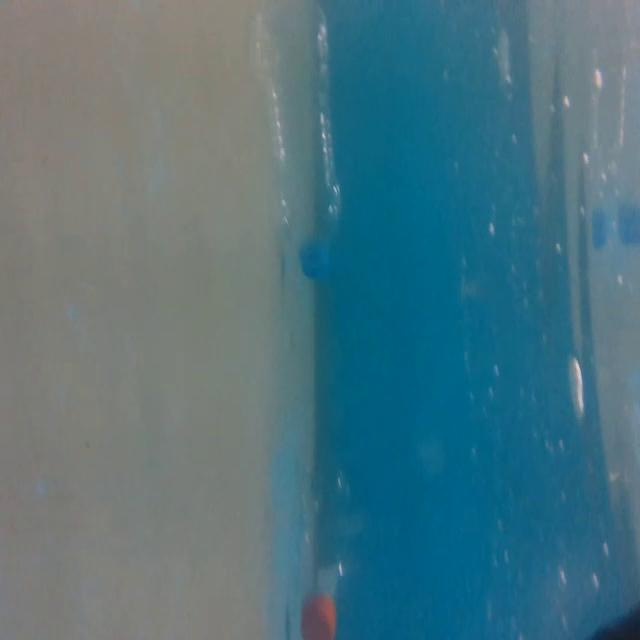plastic bottle: (242, 0, 358, 288), (292, 458, 356, 640)
